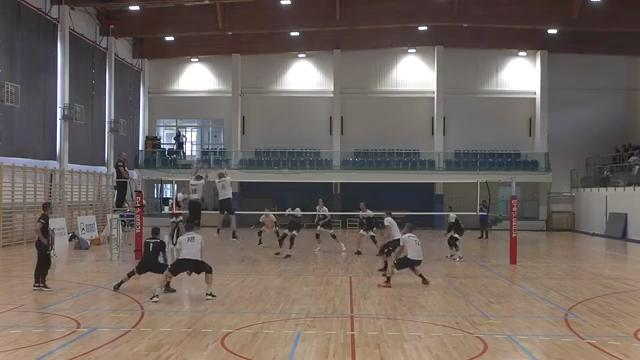Block: (210, 162, 241, 242), (180, 160, 211, 233)
Player: (150, 222, 215, 301), (113, 227, 167, 290), (378, 223, 428, 287), (314, 199, 345, 251), (379, 211, 402, 272), (354, 202, 377, 254), (278, 208, 301, 257), (445, 206, 464, 261), (252, 208, 279, 245), (168, 190, 184, 249), (167, 216, 183, 260)
